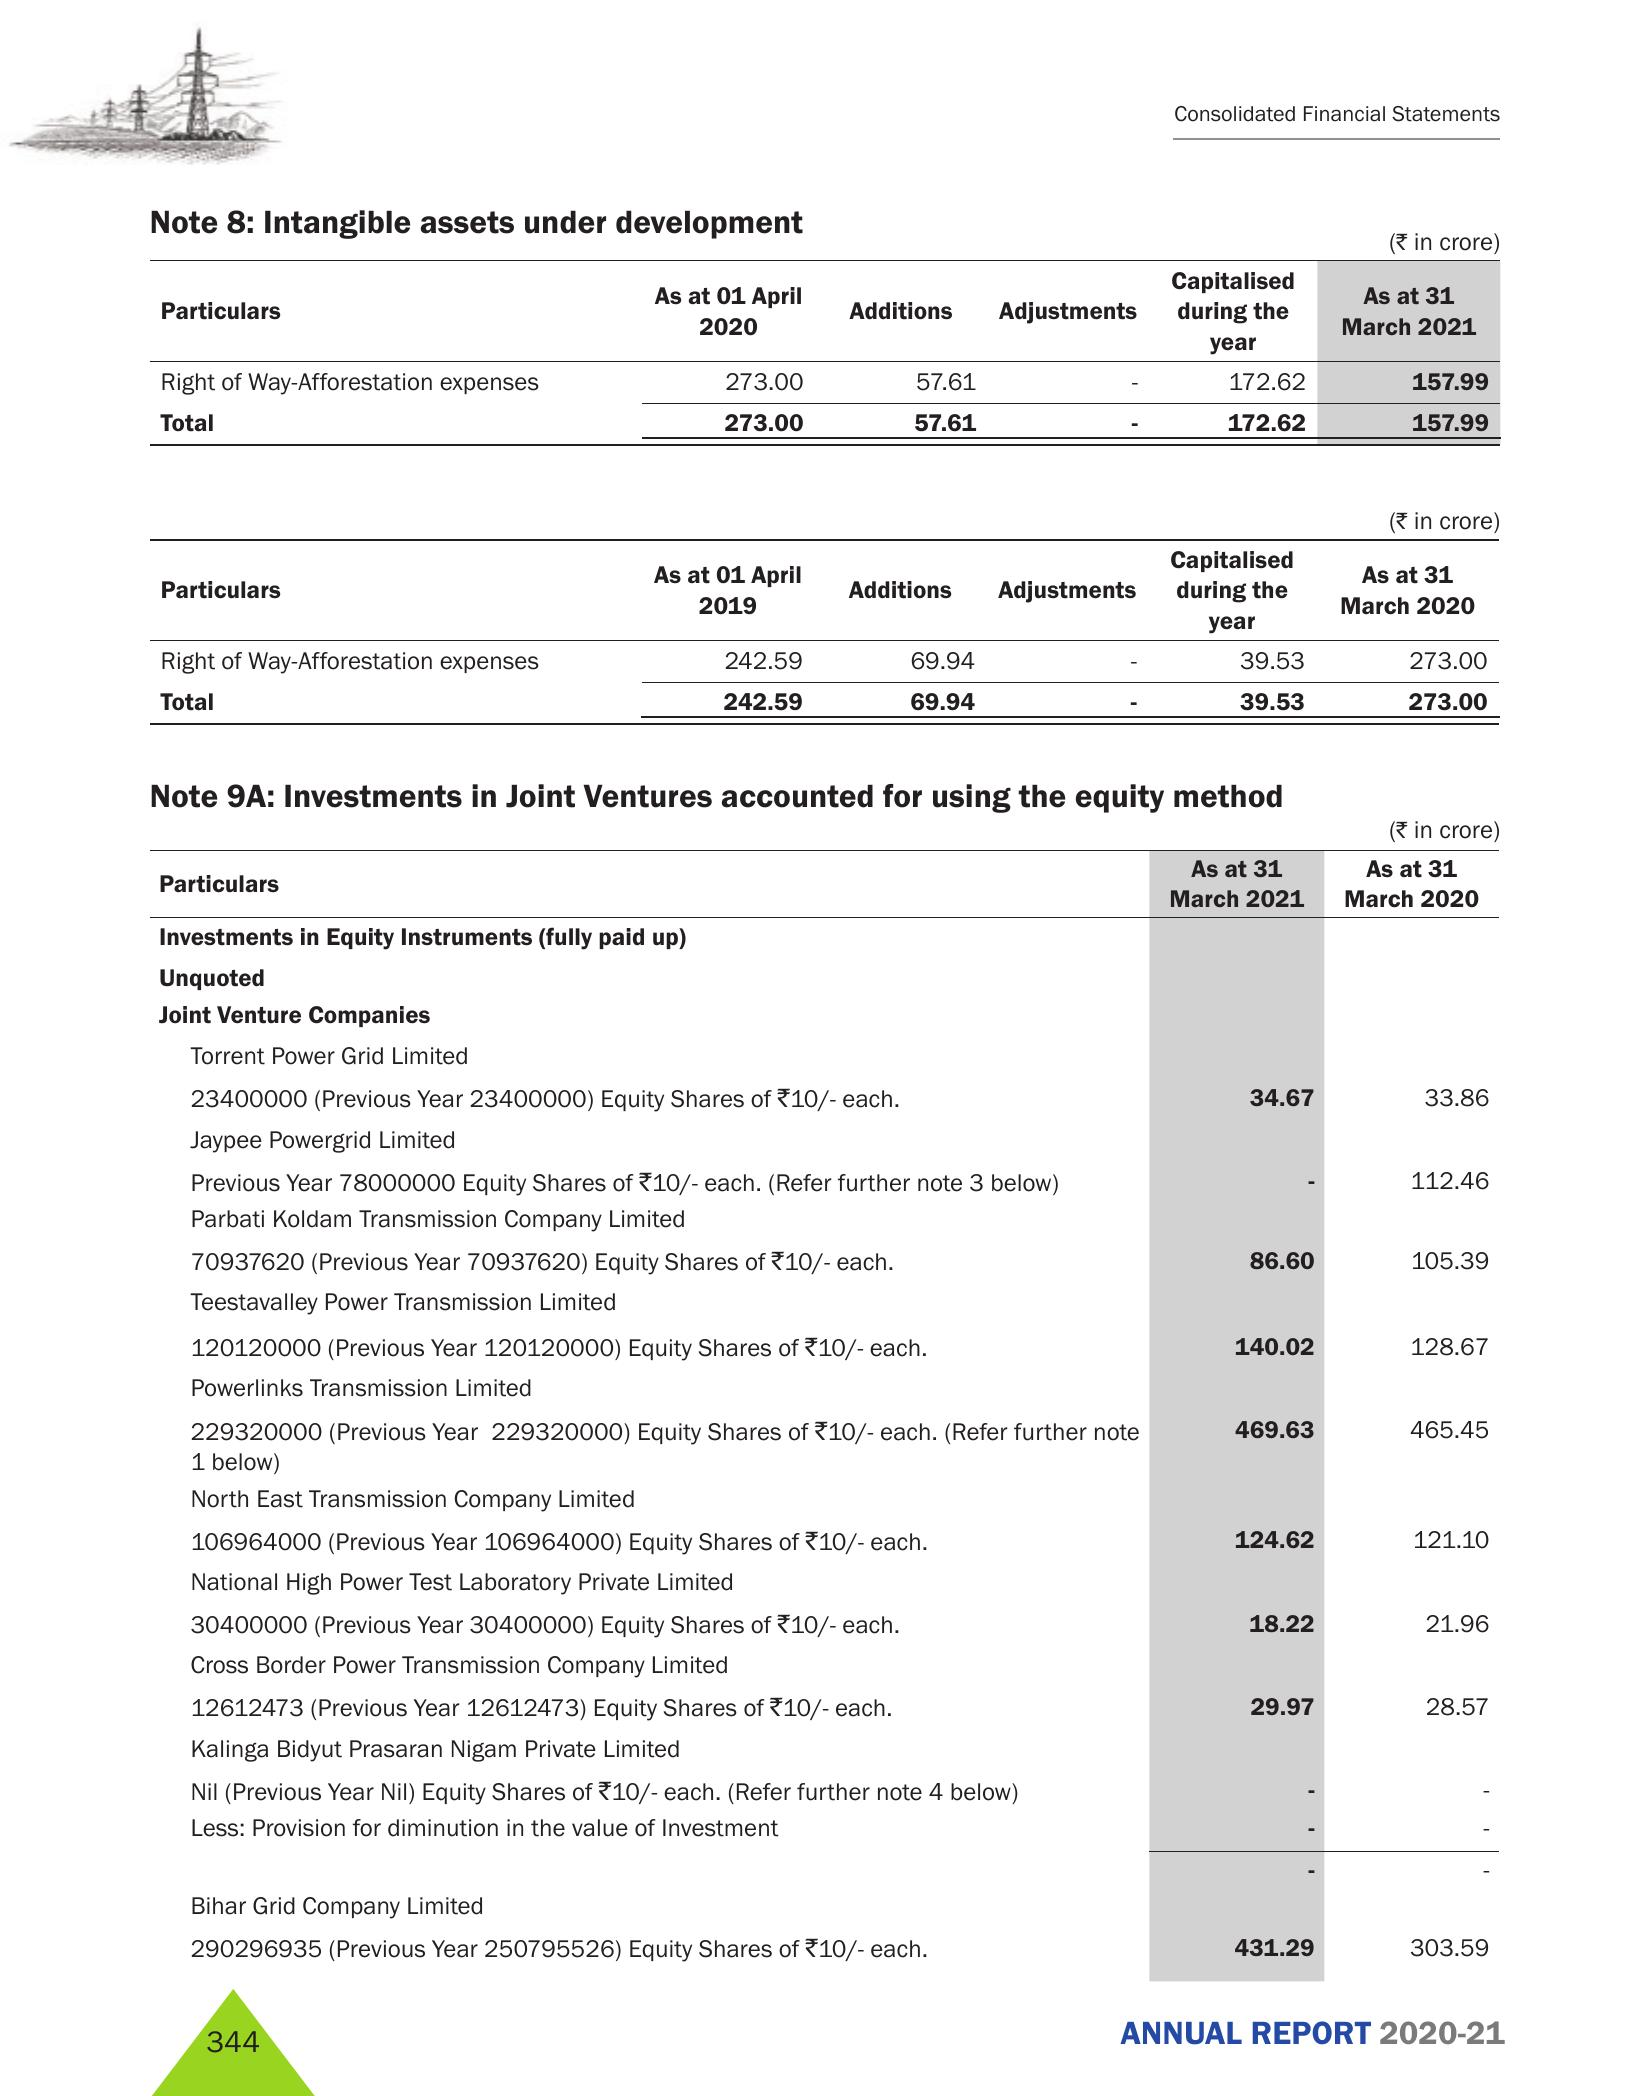Footer: (3, 1985, 1647, 2096)
Header: (0, 0, 1650, 184)
Table: (139, 851, 1521, 1979), (139, 265, 1511, 454), (143, 539, 1516, 715)
